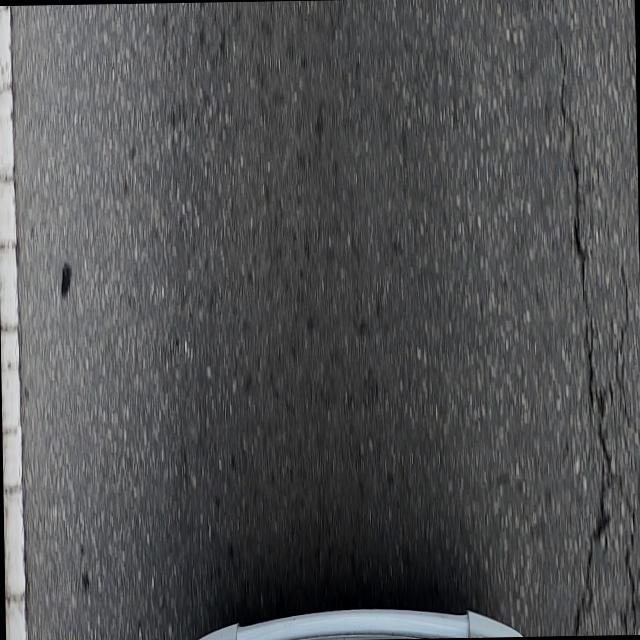Retak-Memanjang: (554, 28, 611, 636), (612, 271, 632, 419), (622, 474, 638, 633)
